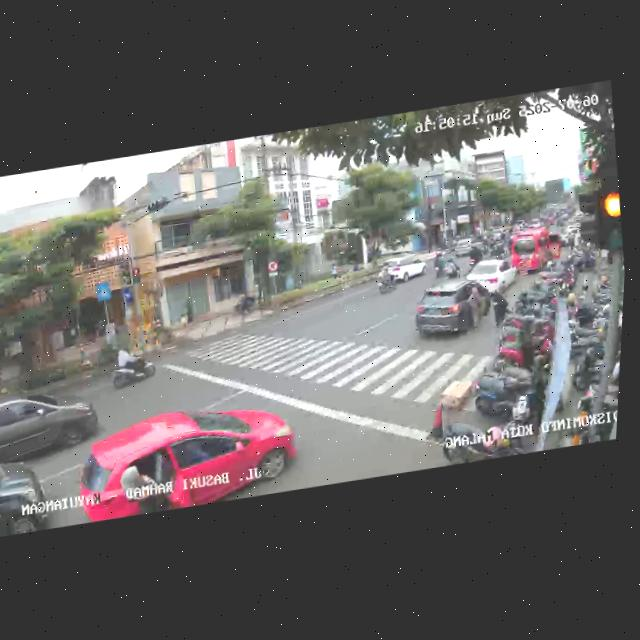car: (69, 392, 303, 524), (0, 381, 100, 472), (407, 276, 499, 347), (0, 449, 62, 537), (508, 224, 566, 278), (461, 252, 518, 297), (379, 248, 433, 289), (452, 236, 476, 255)
motorcycle: (106, 342, 160, 394), (374, 262, 398, 296), (439, 254, 460, 280), (430, 250, 446, 280), (465, 244, 482, 268)
person: (487, 283, 512, 334)
